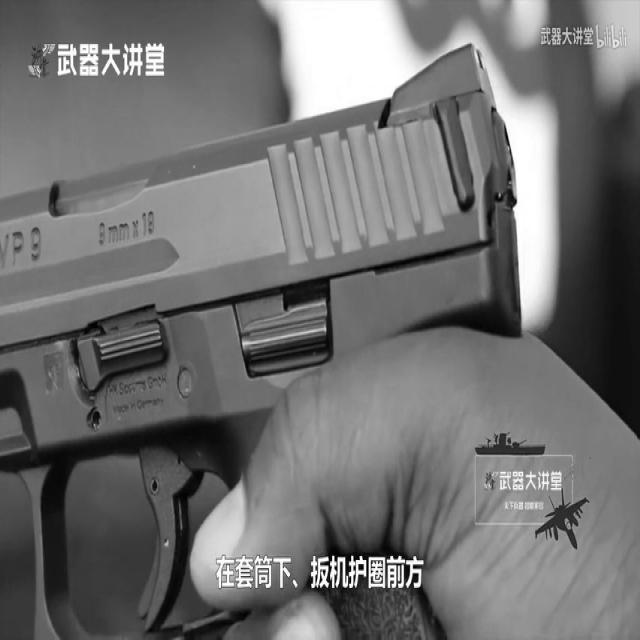Hand-Gun: (6, 0, 572, 640)
